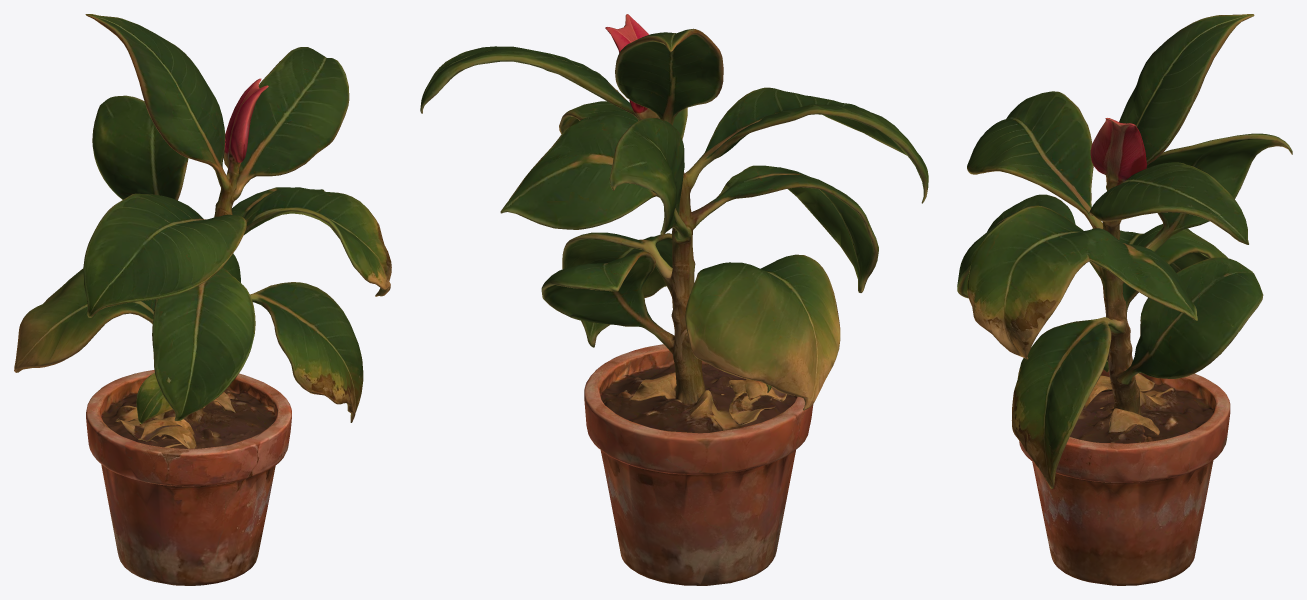
Rendered from d_plant.glb.
3 views of the same model, side by side, from view 1: azimuth 30°, elevation 25°; view 2: azimuth 150°, elevation 25°; view 3: azimuth 270°, elevation 25° (orthographic). The views are drawn at different scales.
Size of the model in its own units: 1.35 by 1.9 by 1.1.
1 material, 1 textured.
